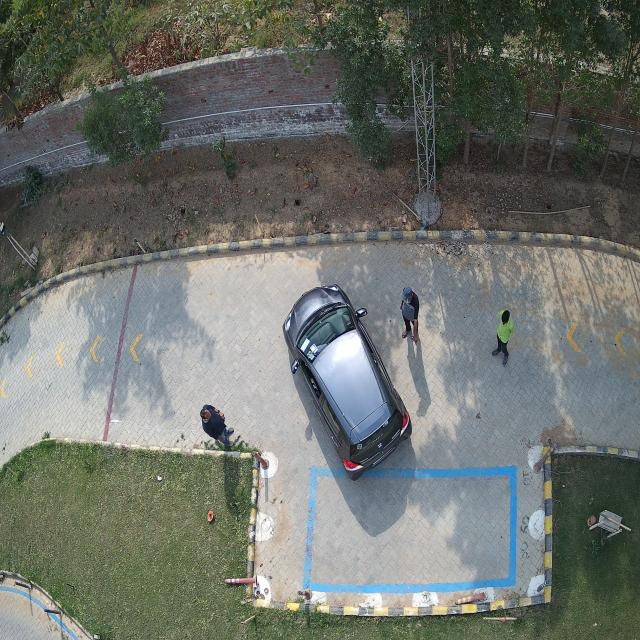car: (286, 290, 410, 478)
